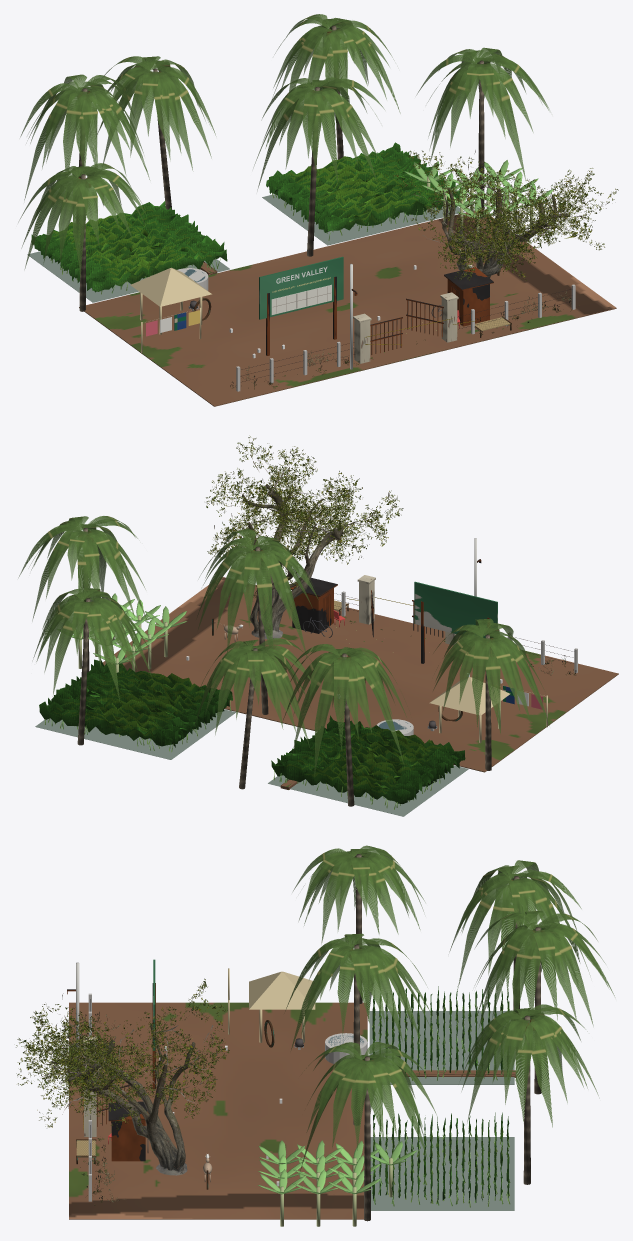
File: pudhur_site.glb
The picture shows the model from 3 angles, top to bottom: view 1: azimuth 30°, elevation 25°; view 2: azimuth 150°, elevation 25°; view 3: azimuth 270°, elevation 25°; orthographic projection. The views are drawn at different scales.
Visible parts, largest first — view 1: pudhur_site; view 2: pudhur_site; view 3: pudhur_site.
Part boxes in pixels (<box>): pudhur_site: <box>18,14,618,406</box>; pudhur_site: <box>18,435,618,816</box>; pudhur_site: <box>16,845,614,1226</box>.
Bounding box in the file's own units: 31.29 × 9.89 × 28.38.
Materials: 60 (23 with a texture image).
